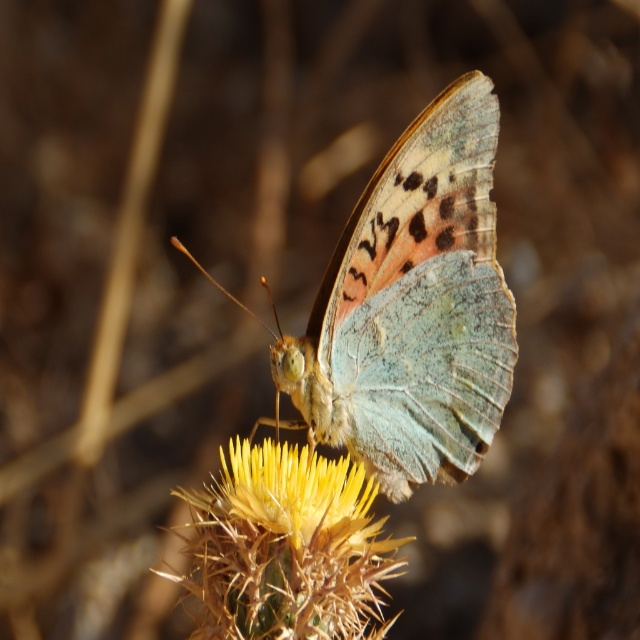Butterfly: (172, 64, 521, 502)
